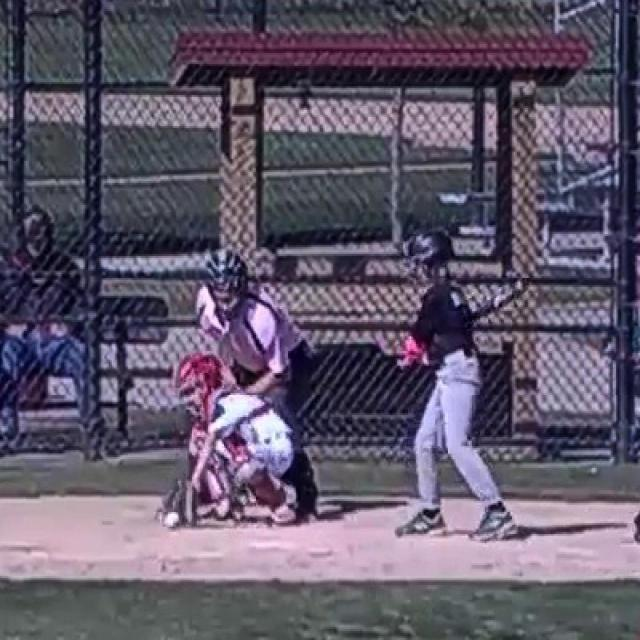baseball: (163, 512, 180, 528)
